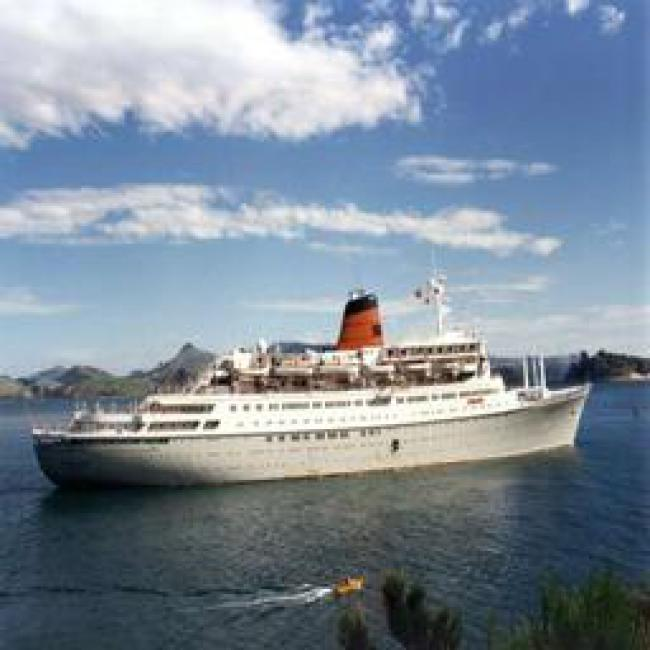Ship: (21, 349, 592, 475)
